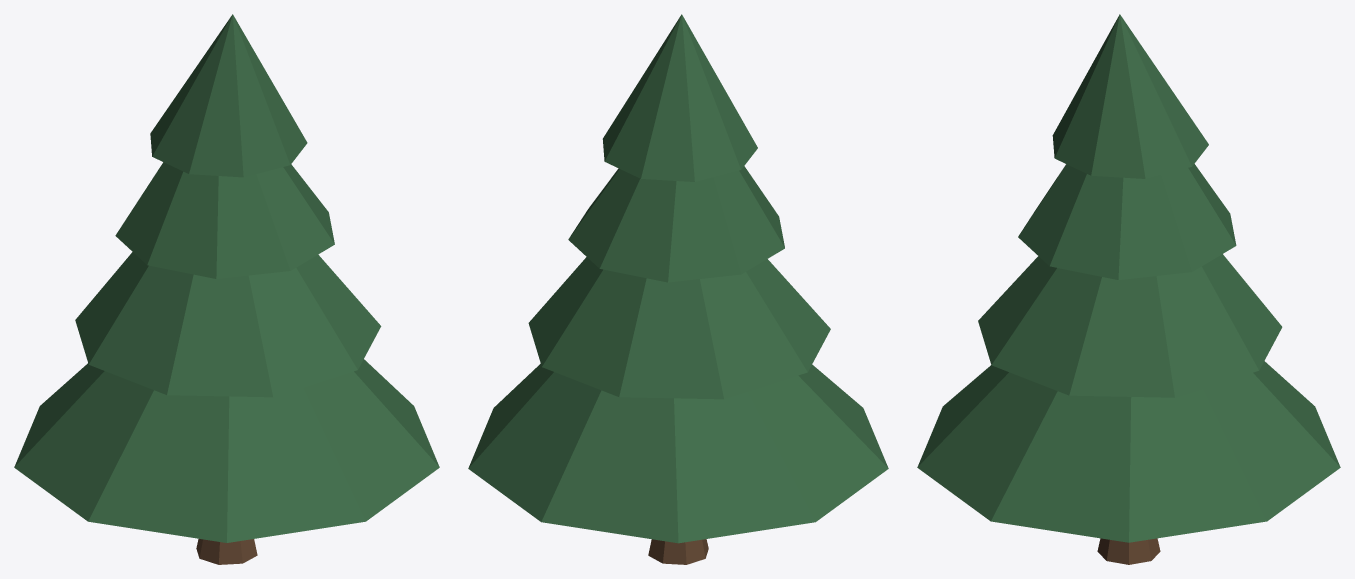
File: tree_pine_1.glb
The picture shows the model from 3 angles, left to right: view 1: azimuth 30°, elevation 25°; view 2: azimuth 150°, elevation 25°; view 3: azimuth 270°, elevation 25°; orthographic projection.
Parts seen in each view (by area): view 1: tree_pine_1; view 2: tree_pine_1; view 3: tree_pine_1.
Boxes of the visible parts, x1,y1,x2,y2 form: tree_pine_1: [14, 14, 439, 564]; tree_pine_1: [468, 14, 888, 564]; tree_pine_1: [917, 14, 1340, 564].
Bounding box in the file's own units: 3.57 × 5.08 × 3.62.
